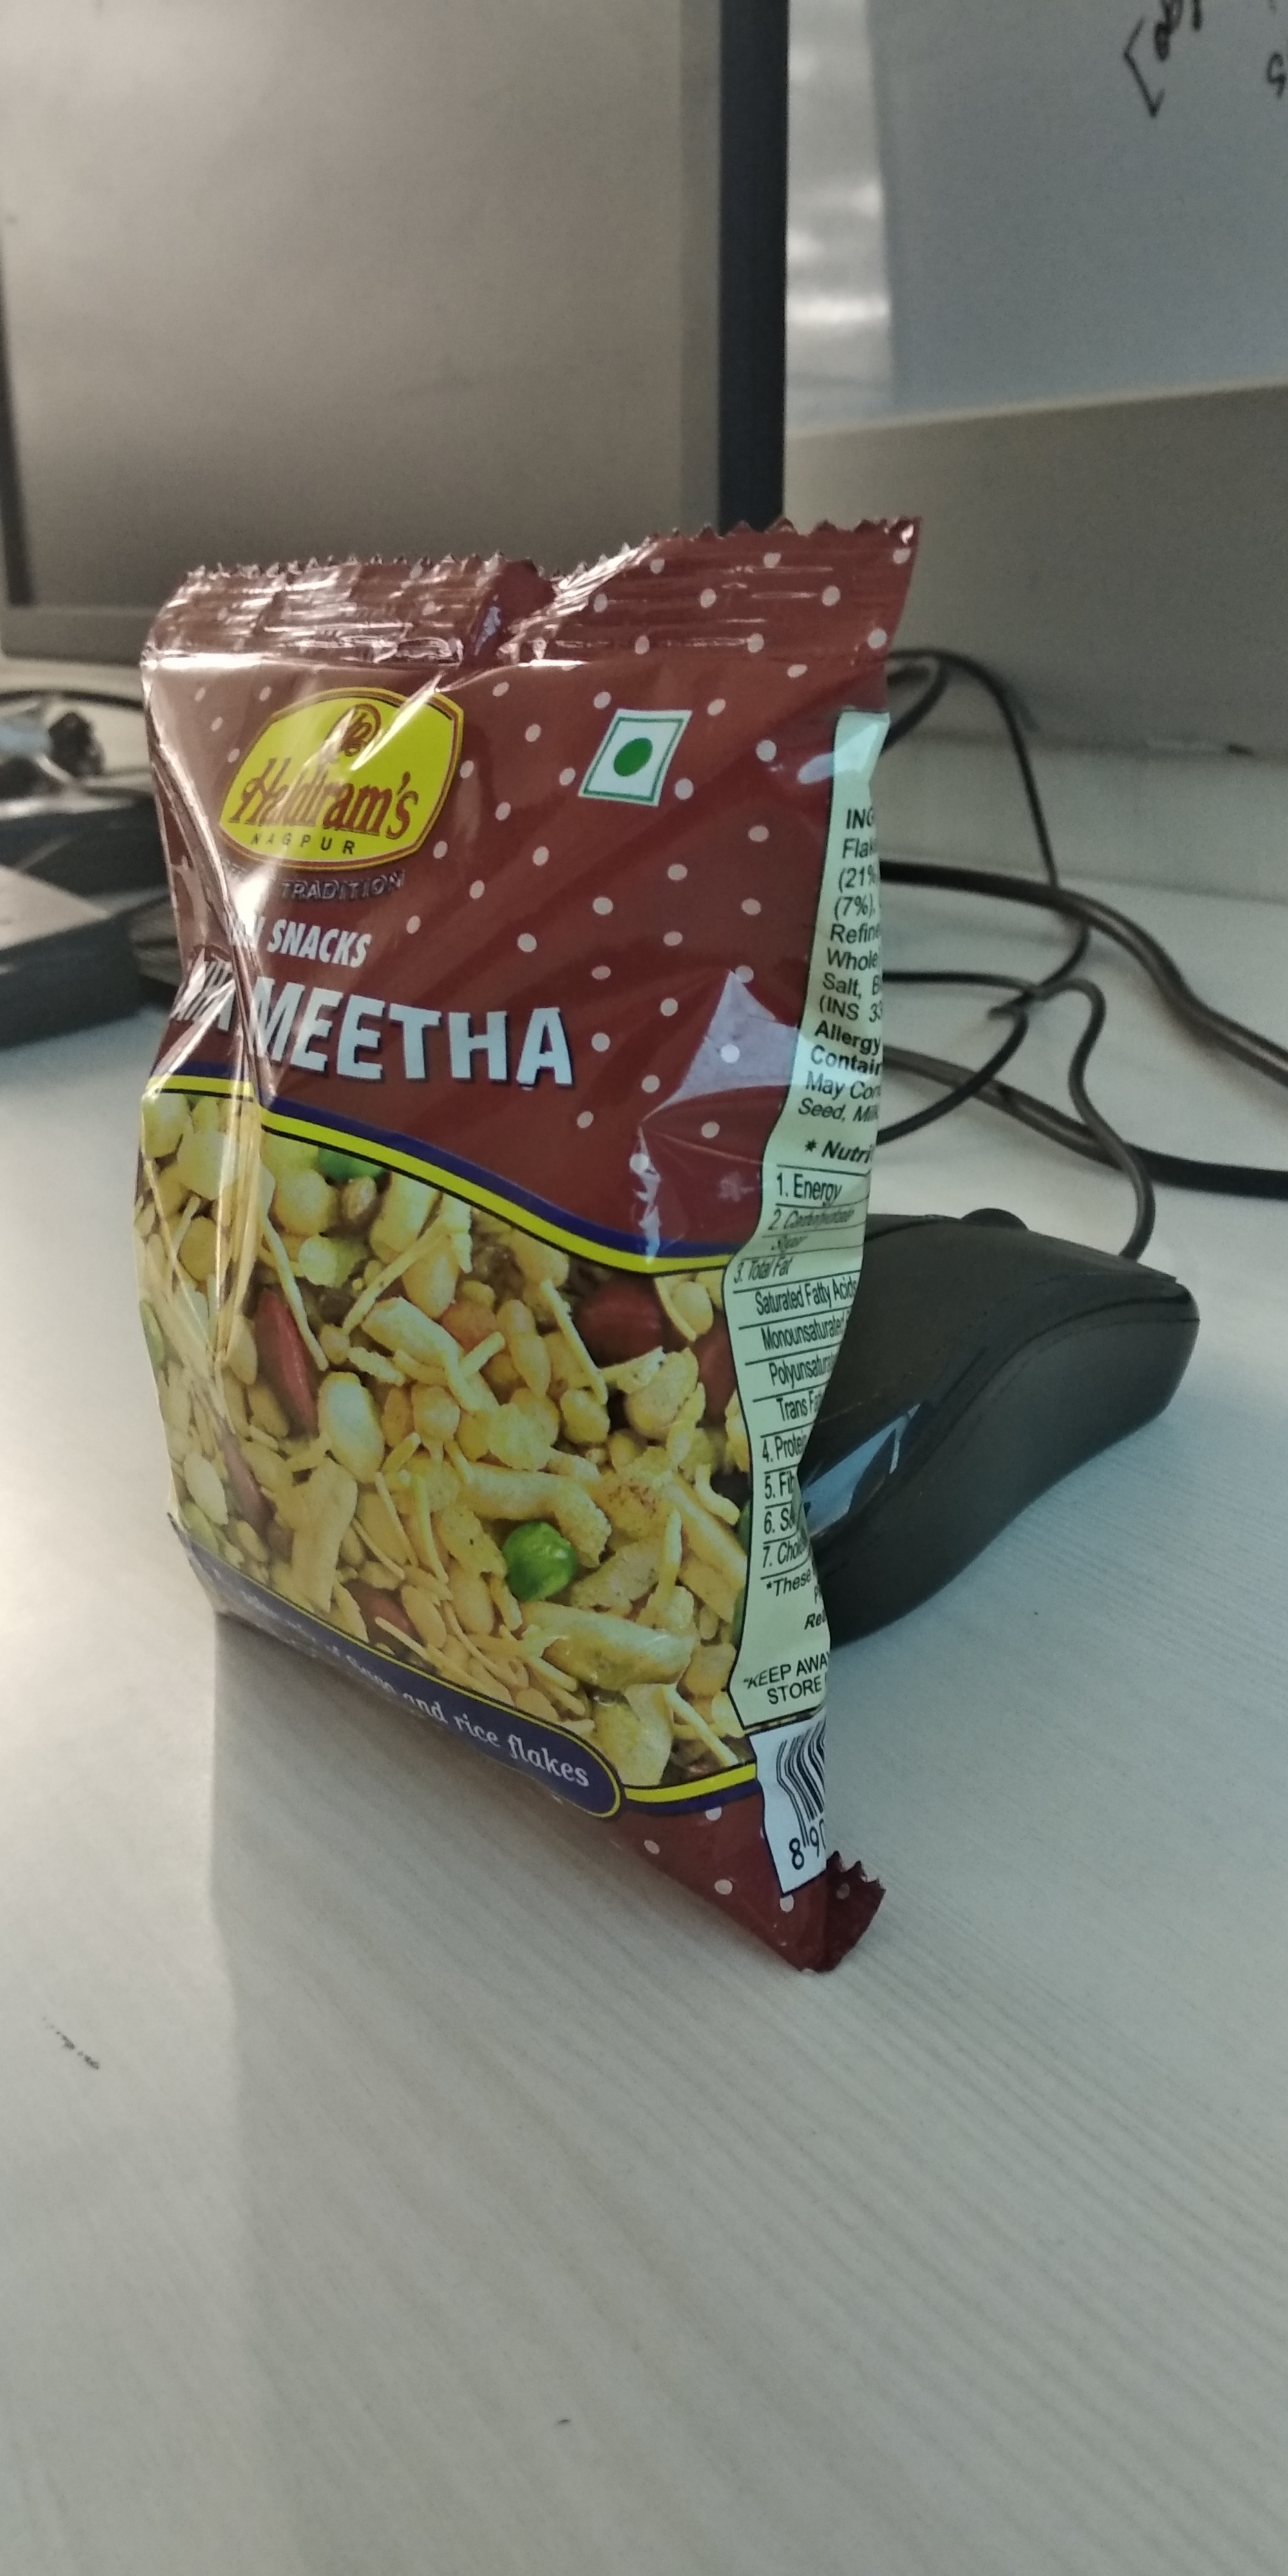khataMeetha: (138, 545, 915, 2011)
